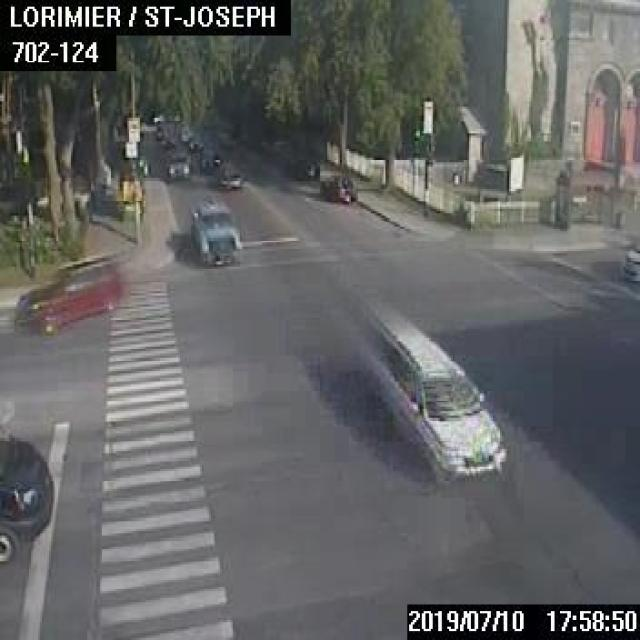vehicle: (384, 342, 506, 482), (13, 255, 121, 333), (0, 429, 55, 564), (189, 200, 240, 264), (320, 173, 353, 202), (619, 244, 638, 276), (217, 166, 242, 189), (166, 152, 188, 176), (198, 150, 220, 172), (292, 158, 318, 176), (186, 134, 202, 150), (154, 122, 168, 136), (159, 135, 174, 147), (178, 129, 192, 141)
